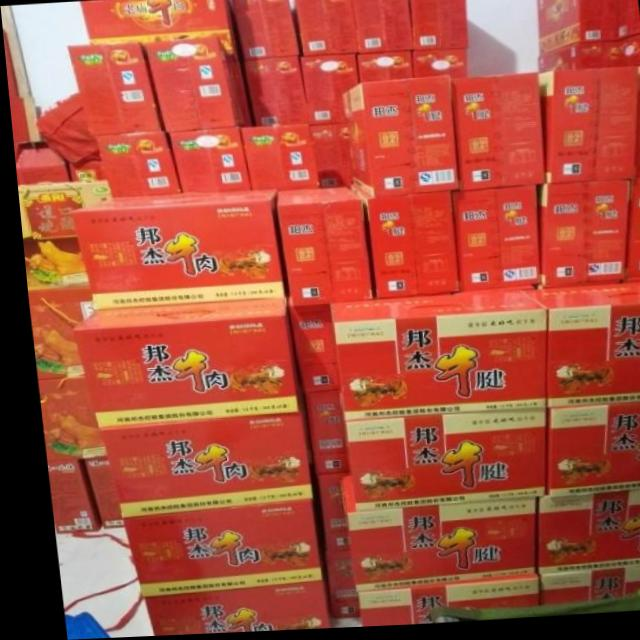box: (64, 299, 296, 428), (322, 292, 541, 424), (63, 191, 282, 310), (328, 478, 525, 595), (90, 410, 305, 517), (335, 412, 537, 514), (112, 499, 314, 597), (515, 286, 640, 413), (339, 79, 455, 200), (342, 186, 453, 303), (535, 71, 634, 188), (272, 188, 368, 308), (448, 77, 544, 194), (132, 580, 319, 637), (14, 180, 109, 291), (534, 405, 640, 501), (525, 491, 640, 579), (533, 185, 624, 291), (78, 0, 237, 60), (144, 39, 244, 134), (344, 578, 527, 629), (447, 189, 534, 296), (65, 43, 161, 136), (22, 287, 89, 379), (30, 376, 97, 462), (91, 132, 177, 196), (165, 128, 247, 194), (238, 125, 317, 191), (536, 0, 619, 60), (280, 304, 330, 397), (526, 570, 640, 610), (242, 58, 307, 127), (230, 0, 299, 62), (298, 56, 357, 128), (37, 458, 92, 533), (294, 0, 357, 59), (295, 395, 339, 477), (349, 0, 412, 57), (408, 0, 467, 53), (304, 476, 341, 554), (74, 457, 114, 529), (536, 46, 623, 78), (307, 127, 348, 190), (312, 552, 346, 621), (12, 141, 67, 183), (618, 184, 640, 288), (354, 54, 412, 85), (410, 52, 464, 82), (631, 72, 640, 185), (619, 0, 639, 45), (63, 161, 102, 183), (621, 40, 640, 72)
